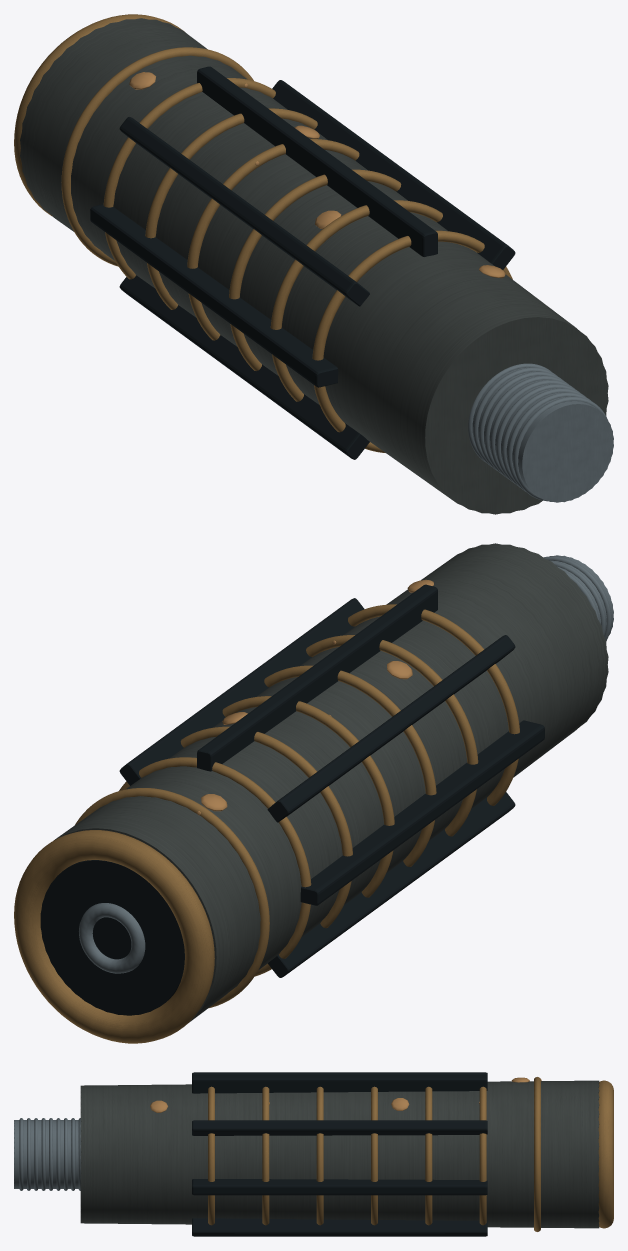
3 renders of one model, top to bottom at view 1: azimuth 30°, elevation 25°; view 2: azimuth 150°, elevation 25°; view 3: azimuth 270°, elevation 25°, orthographic. The views are drawn at different scales.
Parts seen in each view (by area): view 1: machined receiver, recess shadow, edge hardware, brushed steel, peened pin; view 2: machined receiver, recess shadow, edge hardware, brushed steel, peened pin; view 3: machined receiver, recess shadow, edge hardware, brushed steel, peened pin.
Part boxes in pixels (x1,y1,x2,y2): machined receiver: (20,18,608,514); recess shadow: (90,66,515,459); edge hardware: (14,14,512,452); brushed steel: (468,363,613,502); peened pin: (129,72,505,278); machined receiver: (53,543,608,1022); recess shadow: (40,584,544,1015); edge hardware: (14,604,519,1043); brushed steel: (79,555,613,973); peened pin: (201,579,433,811); machined receiver: (80,1080,599,1228); recess shadow: (192,1072,487,1236); edge hardware: (208,1077,613,1231); brushed steel: (14,1118,80,1190); peened pin: (150,1077,529,1112).
Bounding box in the file's own units: 0.0696 × 0.0696 × 0.243.
5 materials, 3 textured.
